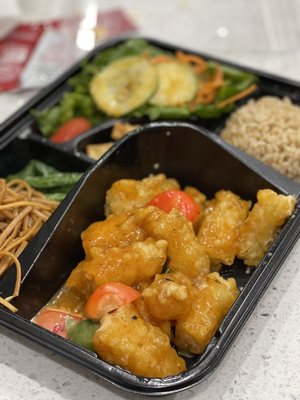sushi: (9, 122, 300, 396)
